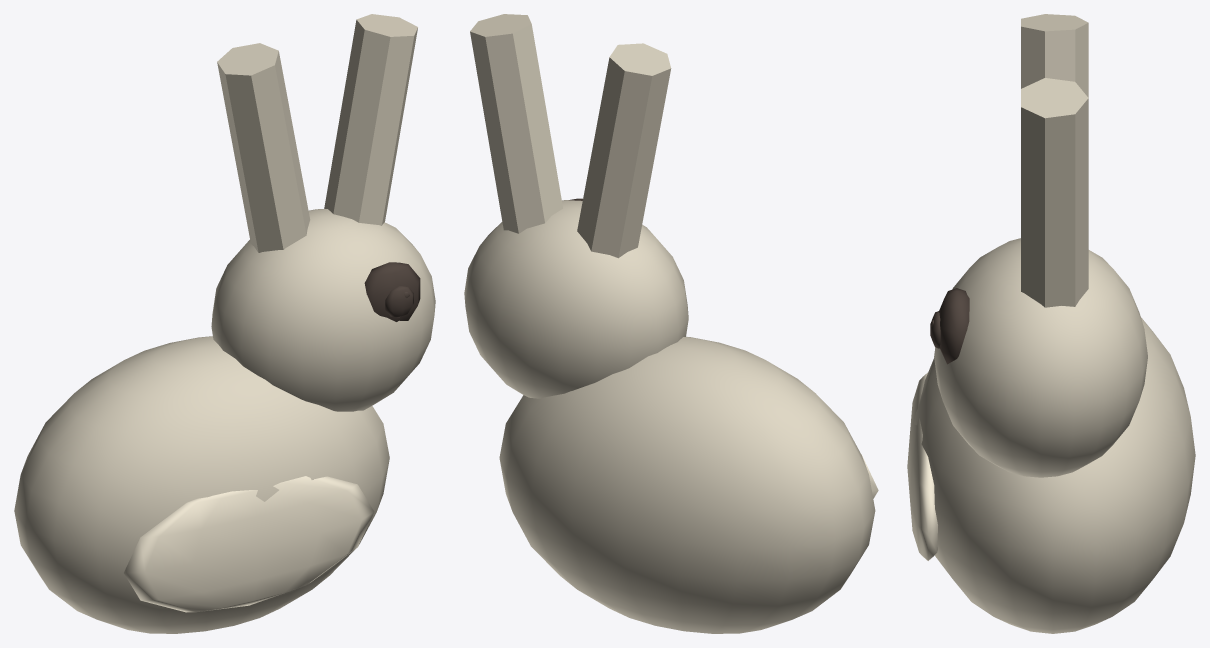
The model's file is rabbit.glb.
3 views of the same model, side by side, from view 1: azimuth 30°, elevation 25°; view 2: azimuth 150°, elevation 25°; view 3: azimuth 270°, elevation 25° (orthographic). The views are drawn at different scales.
Parts seen in each view (by area): view 1: body, head, belly, ear_r, ear_l, eye_socket, eye_pupil; view 2: body, head, ear_r, ear_l; view 3: body, head, ear_r, ear_l, belly, eye_socket.
Part boxes in pixels (bbox=[...]): body: bbox=[14, 336, 389, 633]; head: bbox=[211, 209, 435, 411]; belly: bbox=[124, 476, 374, 612]; ear_r: bbox=[324, 14, 417, 225]; ear_l: bbox=[217, 43, 310, 252]; eye_socket: bbox=[364, 262, 420, 321]; eye_pupil: bbox=[385, 286, 413, 317]; body: bbox=[499, 336, 875, 633]; head: bbox=[464, 200, 688, 398]; ear_r: bbox=[470, 14, 562, 233]; ear_l: bbox=[577, 43, 671, 258]; body: bbox=[914, 317, 1195, 633]; head: bbox=[934, 238, 1147, 477]; ear_r: bbox=[1021, 78, 1088, 307]; ear_l: bbox=[1021, 14, 1088, 97]; belly: bbox=[907, 372, 937, 560]; eye_socket: bbox=[939, 288, 969, 364].
Bounding box in the file's own units: 0.4844 × 0.65 × 0.2764.
